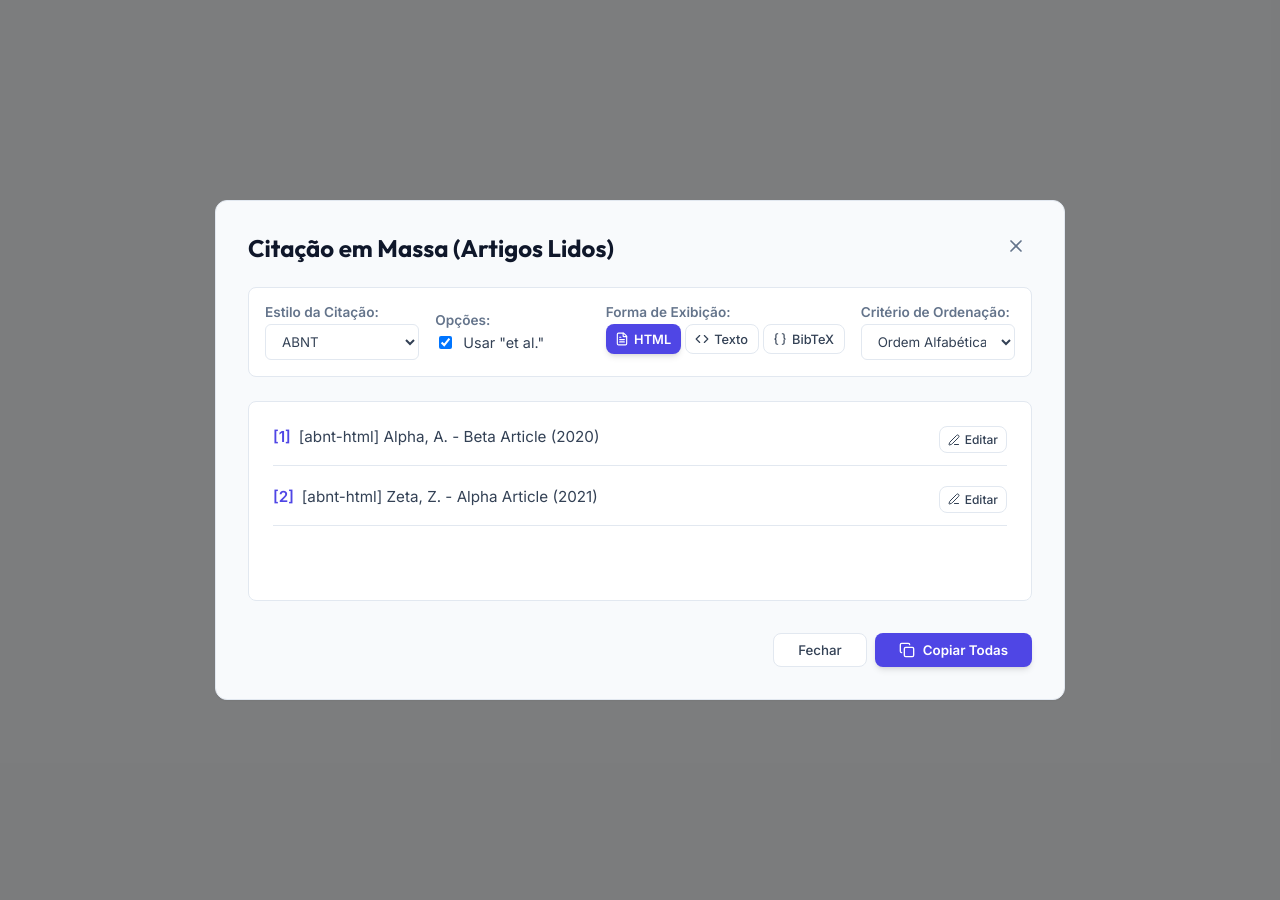
Scenario: MassCitationModal › resets metadata based on CSL JSON if reset button is clicked
// Click edit on the second item (Alpha Article is second under author sort)
Click the 2nd button "Editar" at (973, 499), box [939, 486, 1007, 513]
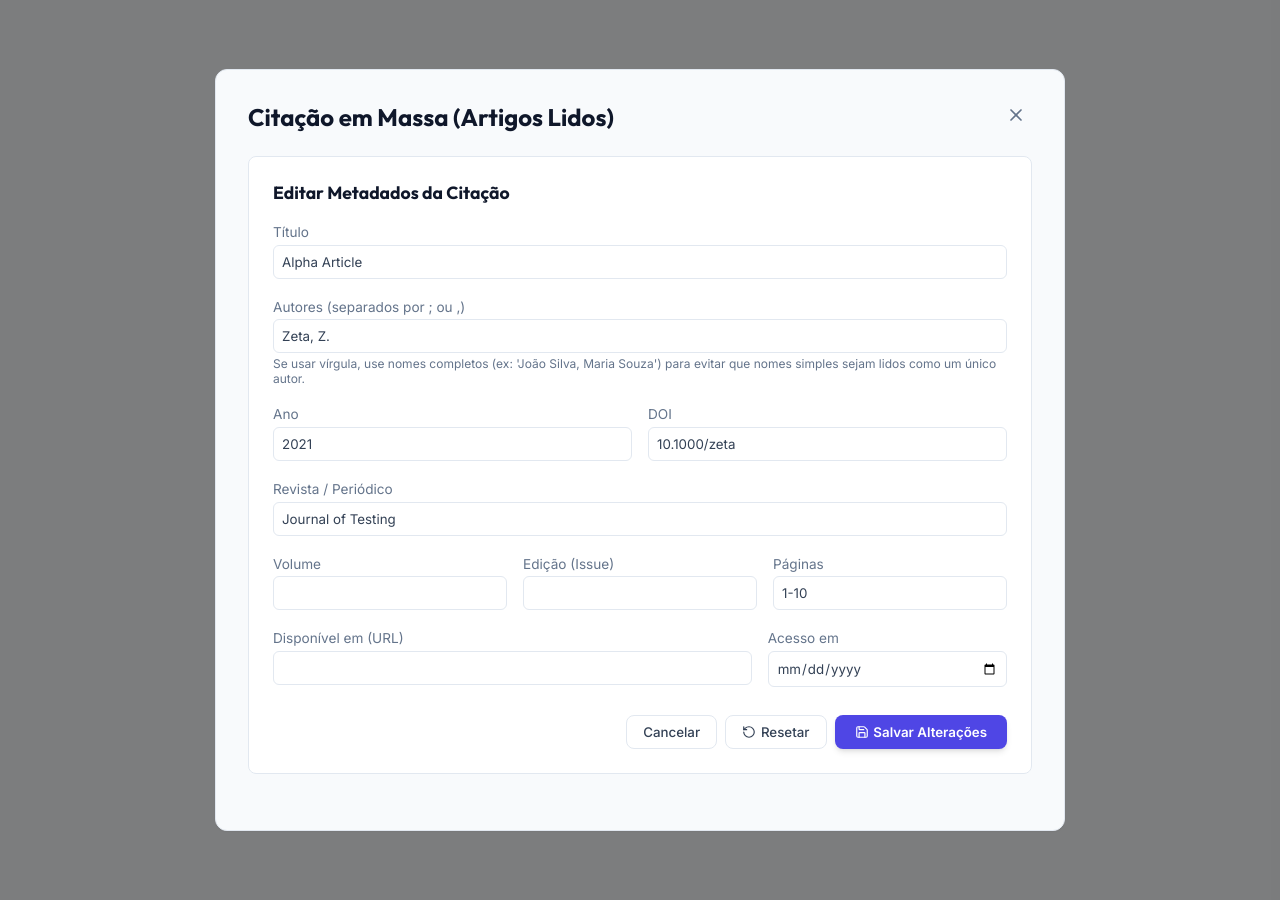
Now the field named "title" is shown
Now the field named "title" holds "Alpha Article"
// Overwrite title in form
Replace the text in the field named "title" with "Some modified title" at (640, 262), box [273, 244, 1007, 278]
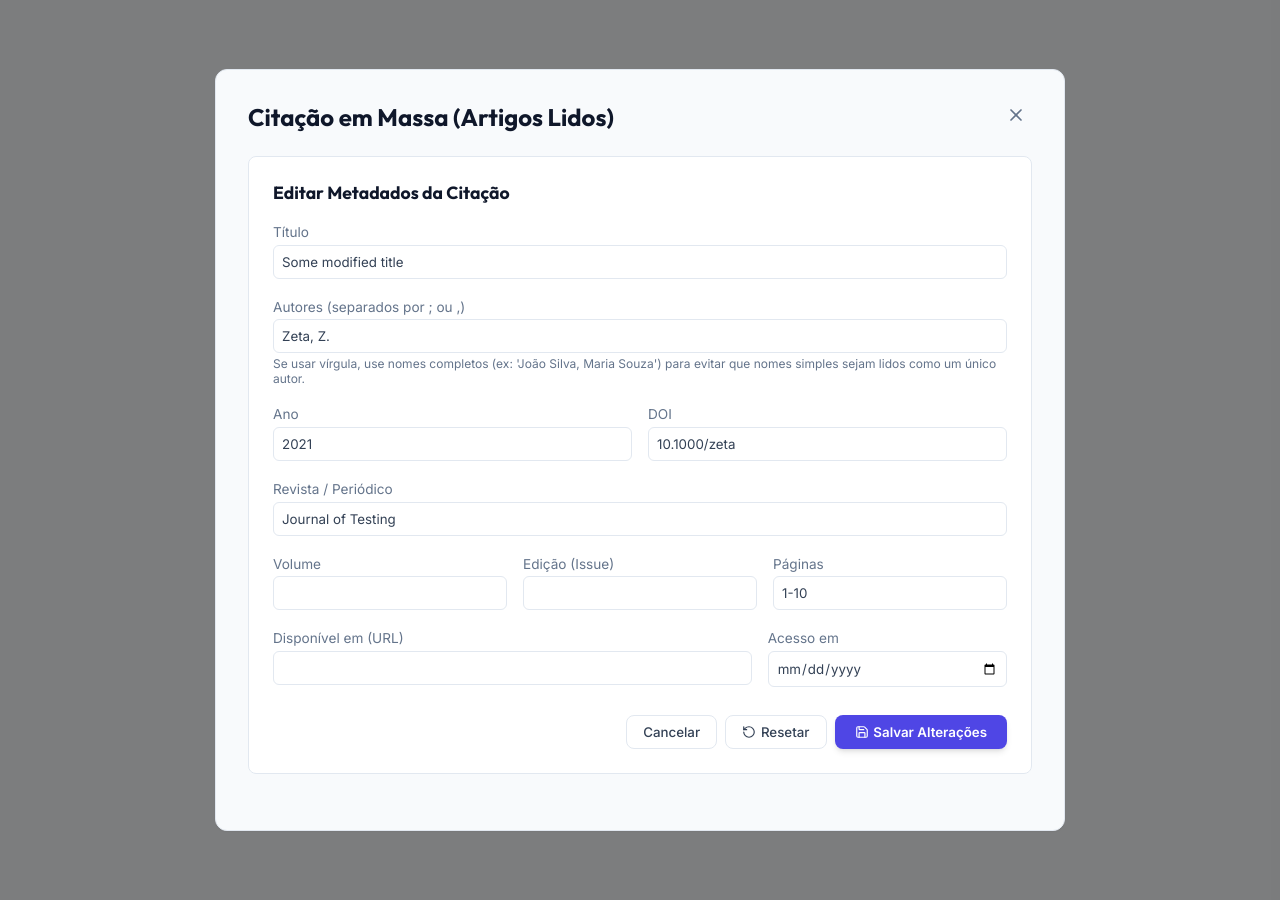
// Click reset
Click the button "Resetar" at (776, 732), box [725, 715, 826, 749]
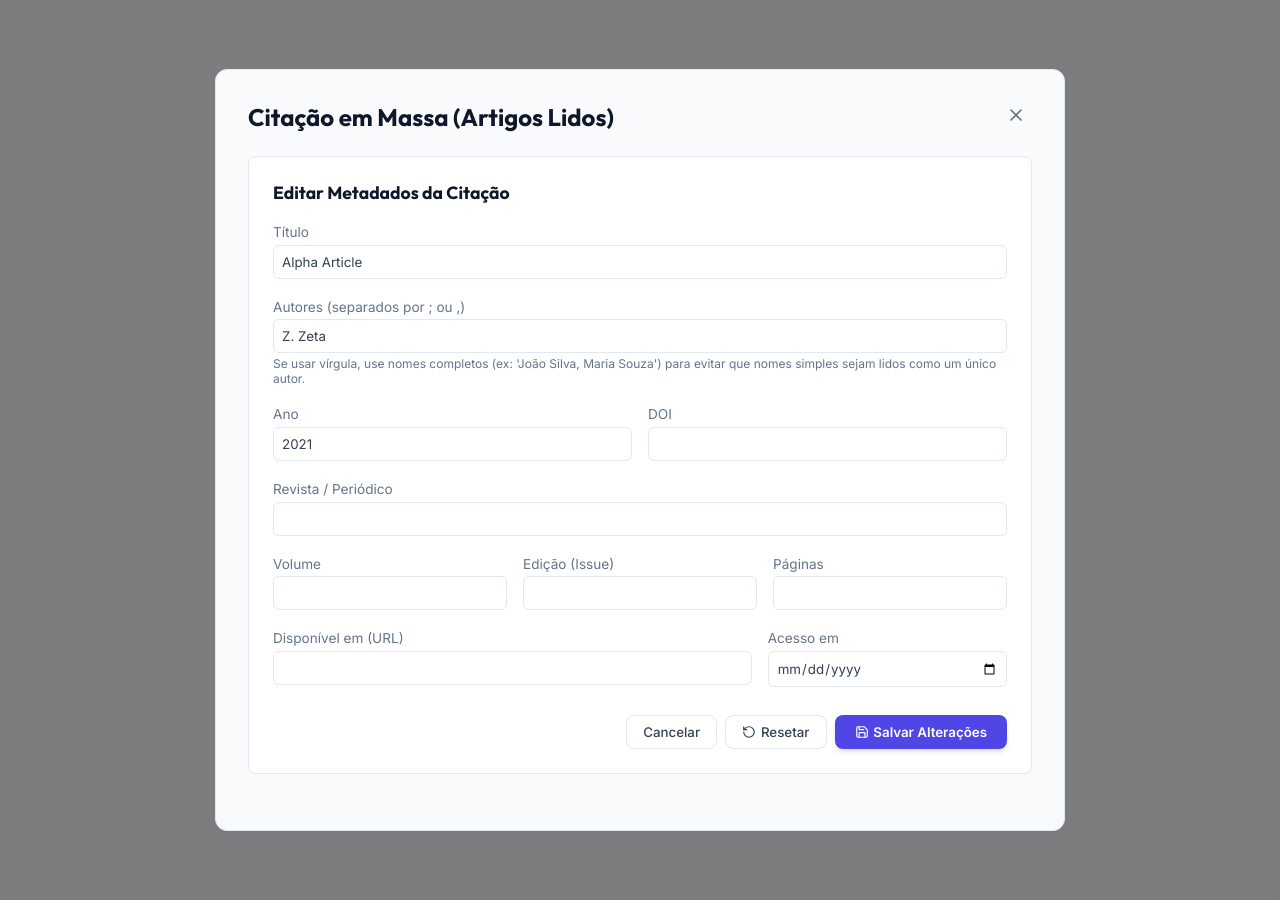
Now the field named "title" holds "Alpha Article", box [273, 244, 1007, 278]
